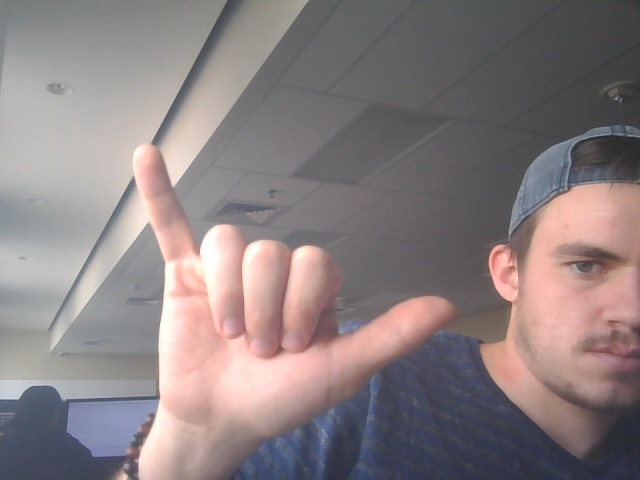birdsup: (123, 136, 466, 441)
